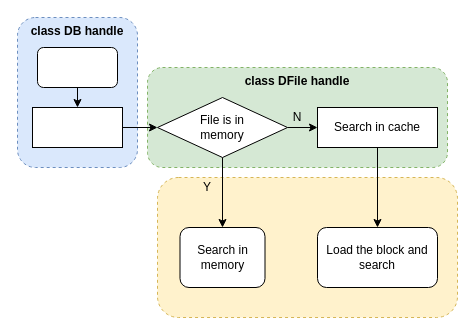
The diagram is 475 pixels wide and 335 high, and some of its shapes have lost their labels. The shapes that lost their labels are listed below. From the top down, each one's box as (x1, y1, x2, y2) in pixels, then its label:
(36, 46, 118, 88): GET
(32, 106, 122, 148): locate file
(156, 176, 458, 318): class BPTree handle
